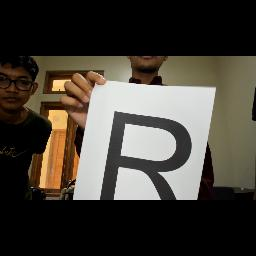r: (89, 104, 199, 200)
